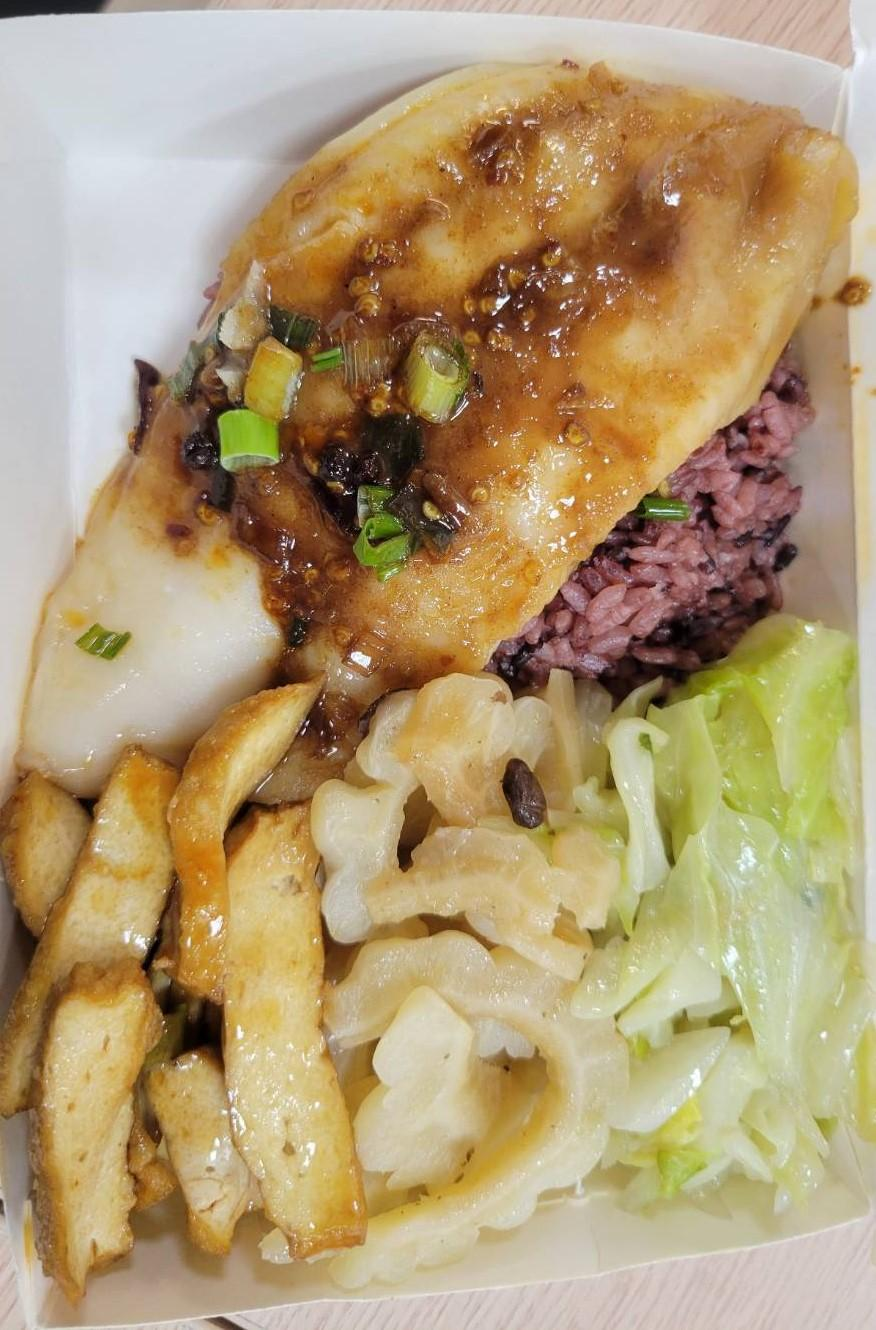big grilled chicken leg: (1, 1, 876, 1330)
braised fish: (458, 311, 821, 709)
braised fish fillet: (7, 691, 367, 1288), (564, 627, 874, 1237), (321, 673, 626, 1248)
braised pork ribs: (23, 53, 844, 789)
